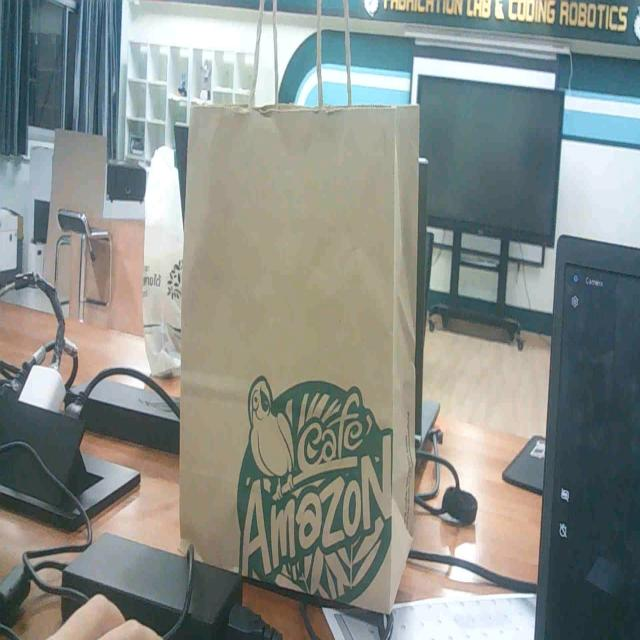bag: (170, 64, 434, 622)
